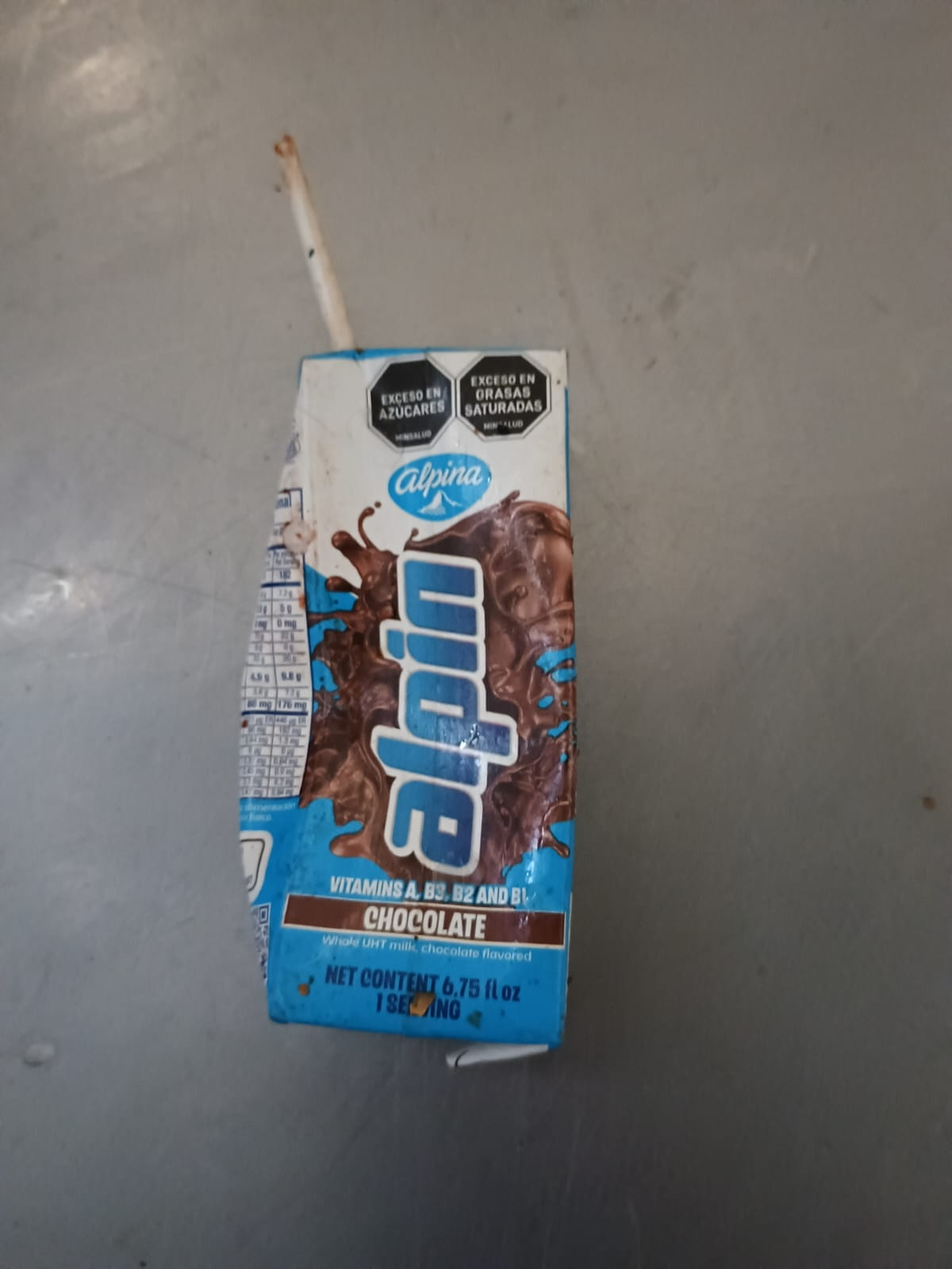Carton: (241, 350, 568, 1046)
